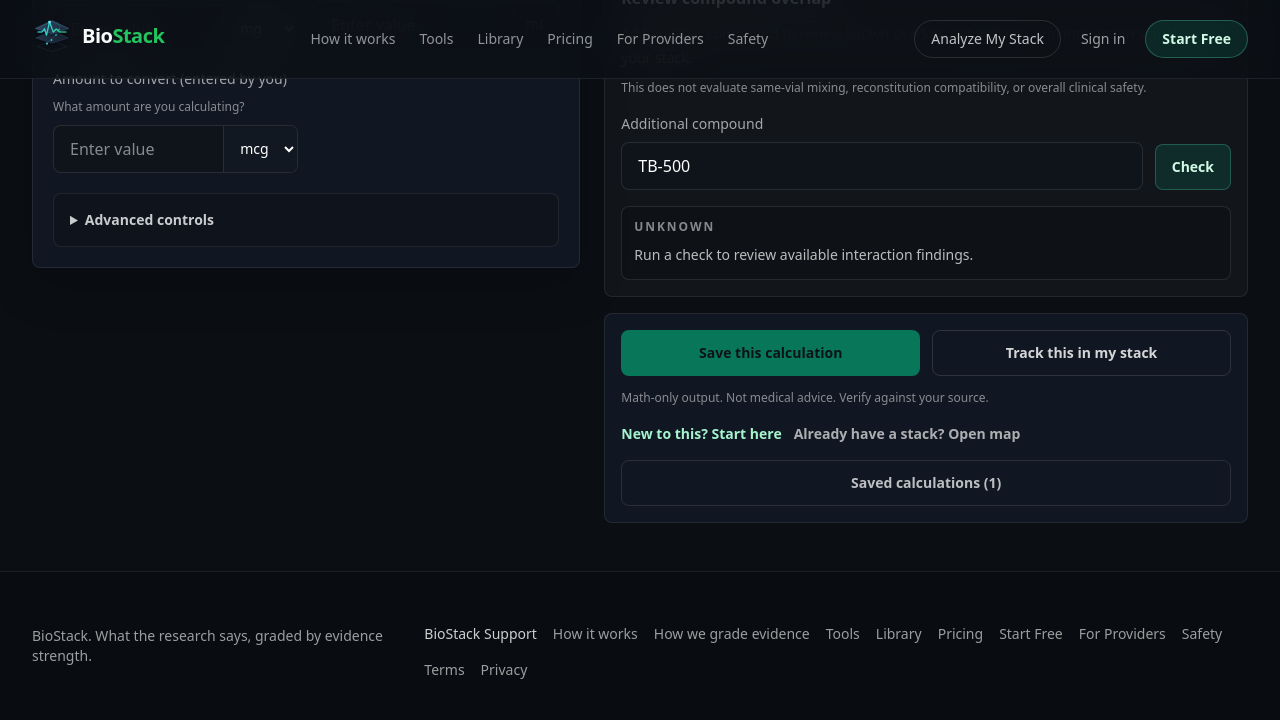
Test: opening a saved calculation › blanks the amount of a calculation saved with a weekly total, and explains
The width and height of the screenshot is (1280, 720).
(page scrolled)
What coordinates should you click on to do the following:
click the button "Saved calculations (1)"
I would click on:
 (926, 483)
Its box is top-left (621, 460), bottom-right (1231, 506).
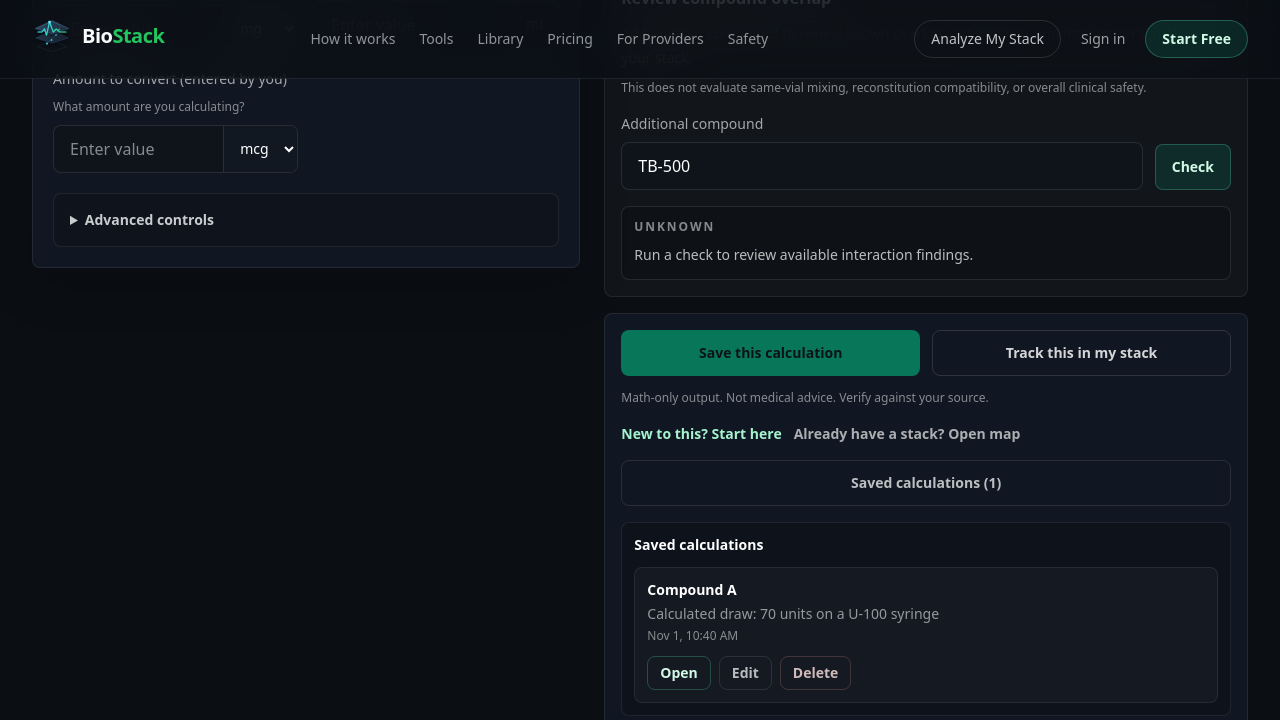
What coordinates should you click on to do the following:
click the button "Open"
I would click on:
 (679, 673)
Its box is top-left (647, 656), bottom-right (711, 690).
(page scrolled)
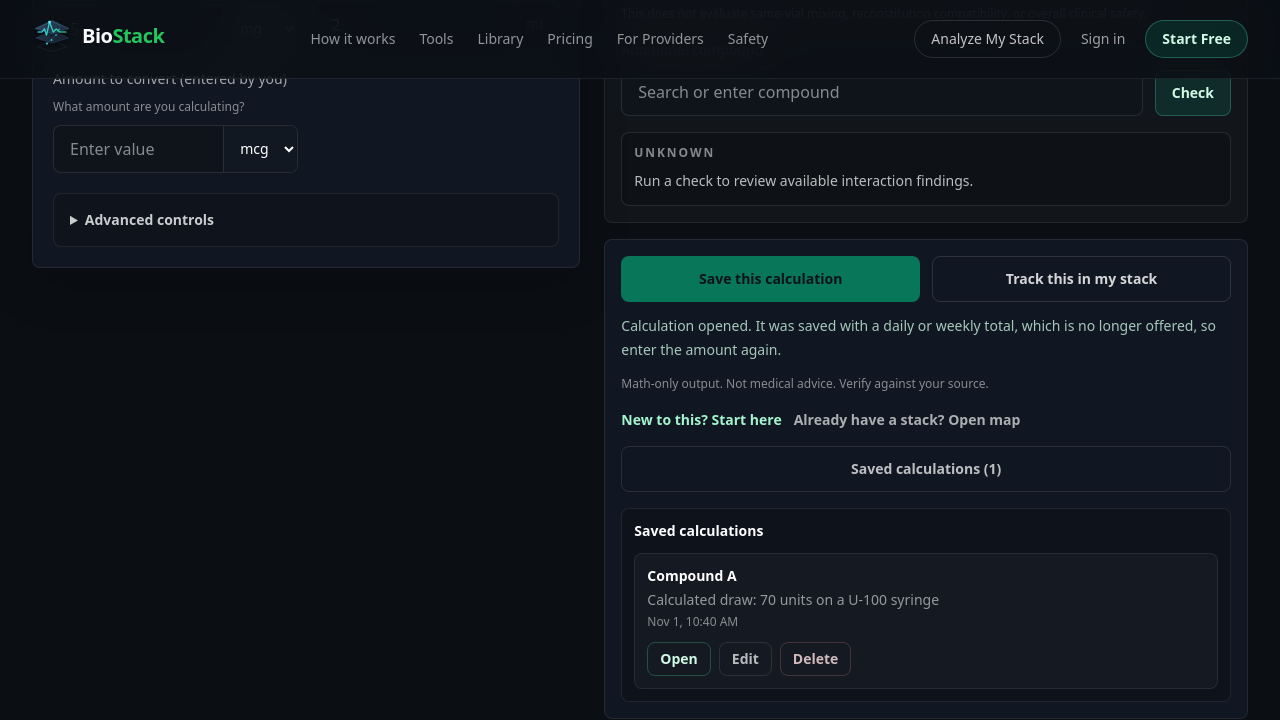
Check: the number field labelled "Amount to convert" is not empty, box top-left (54, 126), bottom-right (223, 172)
Check: the text "saved with a daily or weekly total, which is no longer offered" is shown, box top-left (621, 316), bottom-right (1216, 359)
